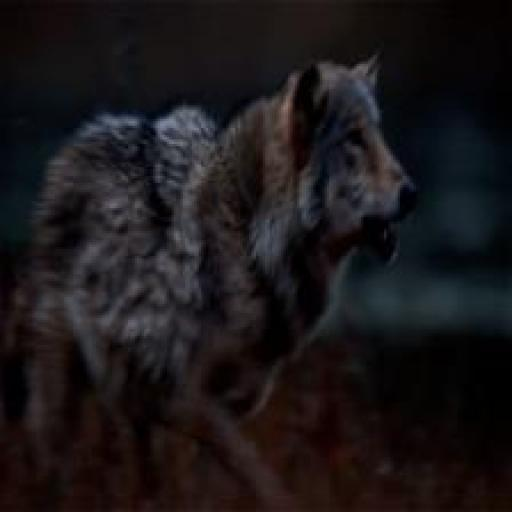wolf: (11, 27, 512, 512)
